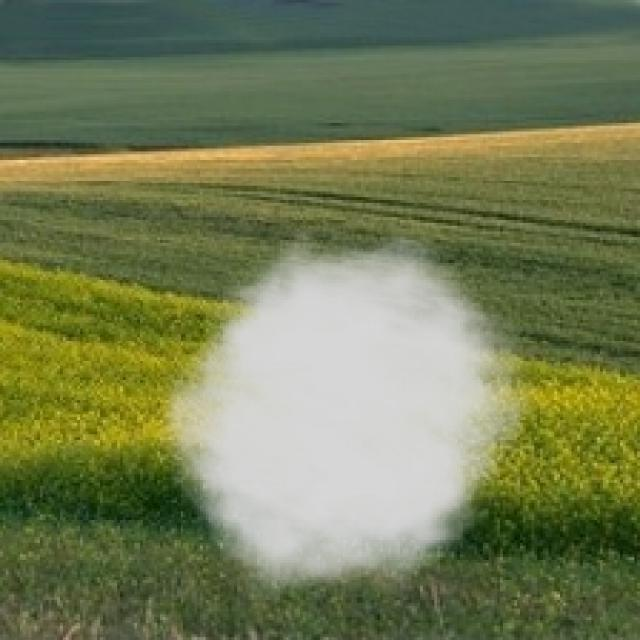Smoke: (146, 232, 543, 608)
